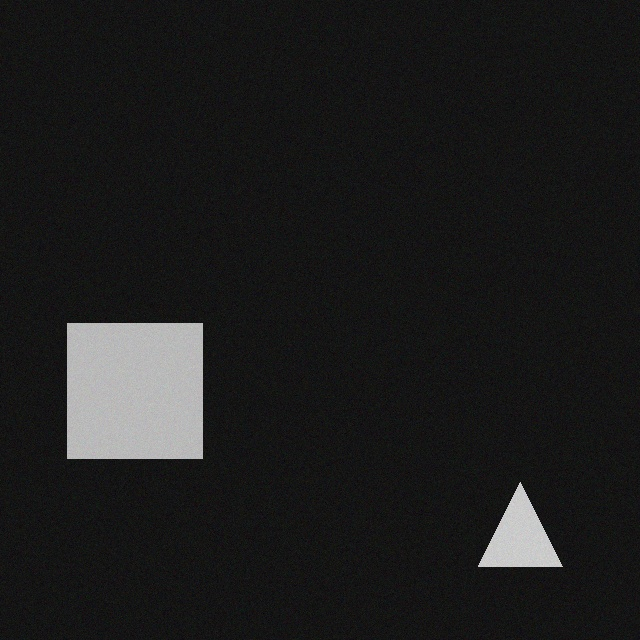square: (82, 331, 217, 466)
triangle: (493, 490, 577, 574)
